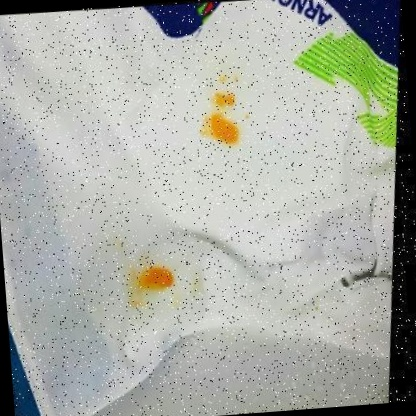kimchi: (129, 258, 177, 293), (207, 112, 240, 144), (209, 92, 236, 112), (220, 71, 240, 88), (120, 296, 140, 310), (244, 112, 248, 119)
